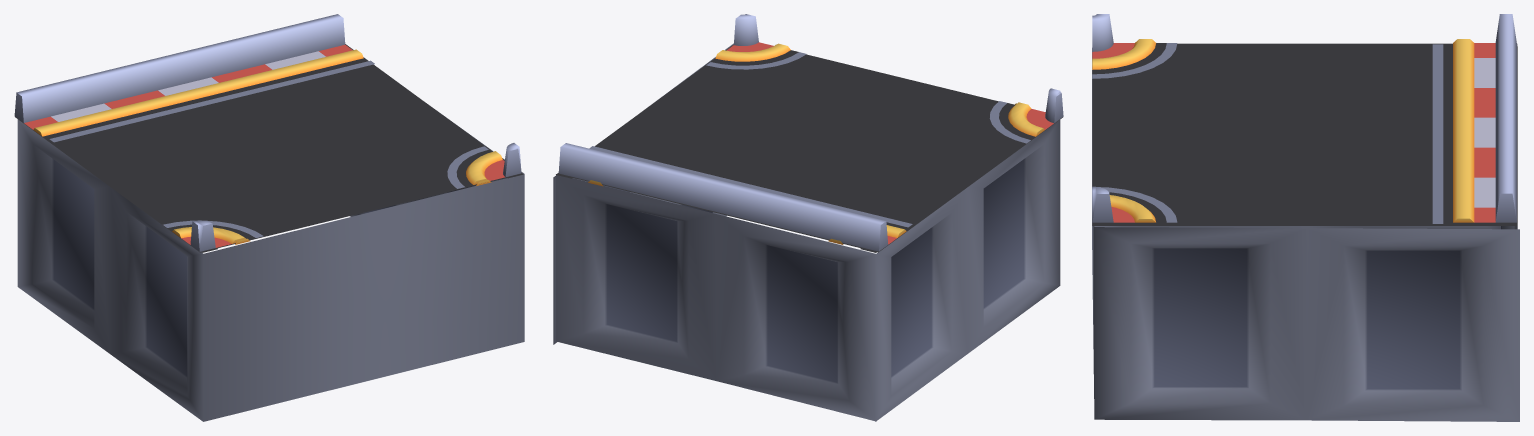
The model's file is elev-track-3-way.glb.
3 views of the same model, side by side, from view 1: azimuth 30°, elevation 25°; view 2: azimuth 150°, elevation 25°; view 3: azimuth 270°, elevation 25° (orthographic). The views are drawn at different scales.
Parts seen in each view (by area): view 1: track-finish.002; view 2: track-finish.002; view 3: track-finish.002.
Part boxes in pixels (x1,y1,x2,y2): track-finish.002: (14, 14, 524, 421); track-finish.002: (553, 14, 1063, 421); track-finish.002: (1092, 14, 1519, 421).
Bounding box in the file's own units: 10.13 × 5.87 × 10.06.
Materials: 4 (4 with a texture image).
